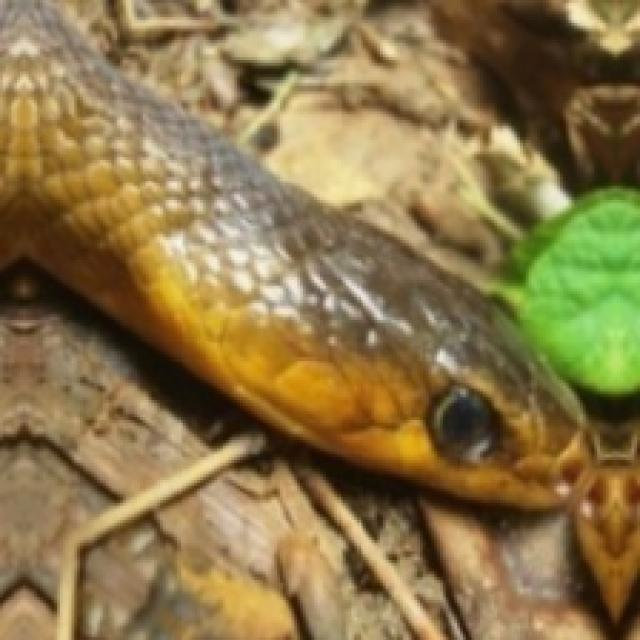reddish rat snake: (0, 2, 640, 628)
